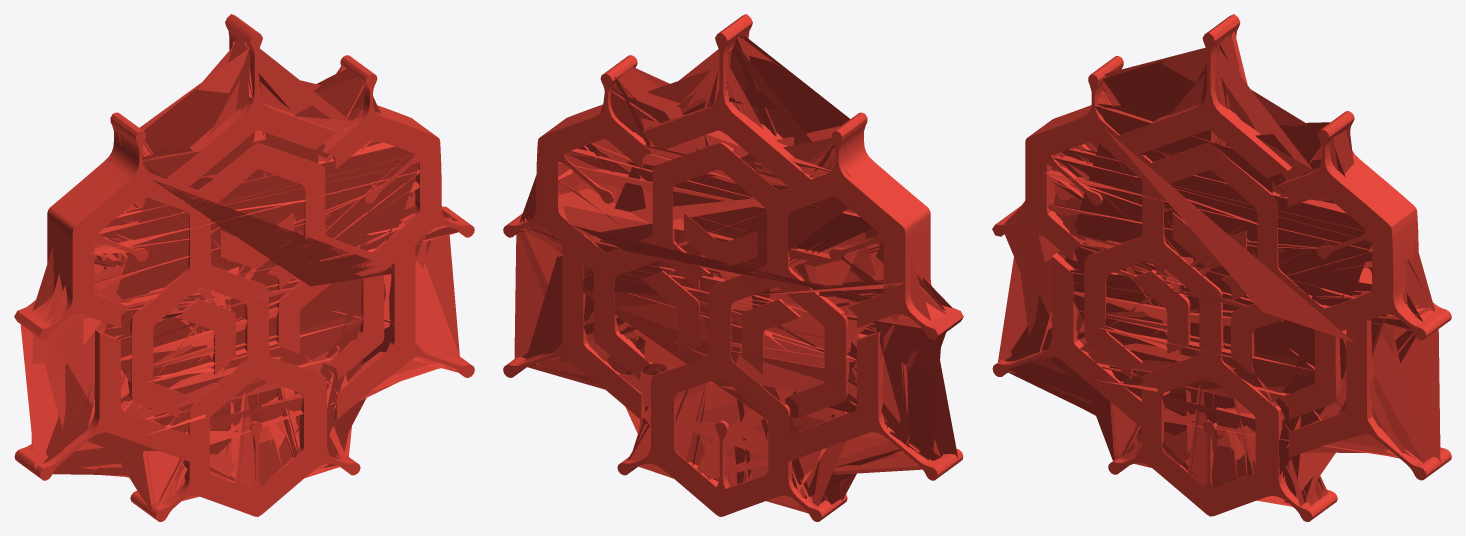
Rendered from GRAF_3_18.glb.
3 renders of one model, left to right at view 1: azimuth 30°, elevation 25°; view 2: azimuth 150°, elevation 25°; view 3: azimuth 330°, elevation 25°, orthographic.
Visible parts, largest first — view 1: Curve.006; view 2: Curve.006; view 3: Curve.006.
Boxes of the visible parts, x1,y1,x2,y2 form: Curve.006: (14, 14, 474, 521); Curve.006: (503, 14, 963, 521); Curve.006: (992, 14, 1451, 521).
Bounding box in the file's own units: 3.45 × 3.67 × 0.3523.
